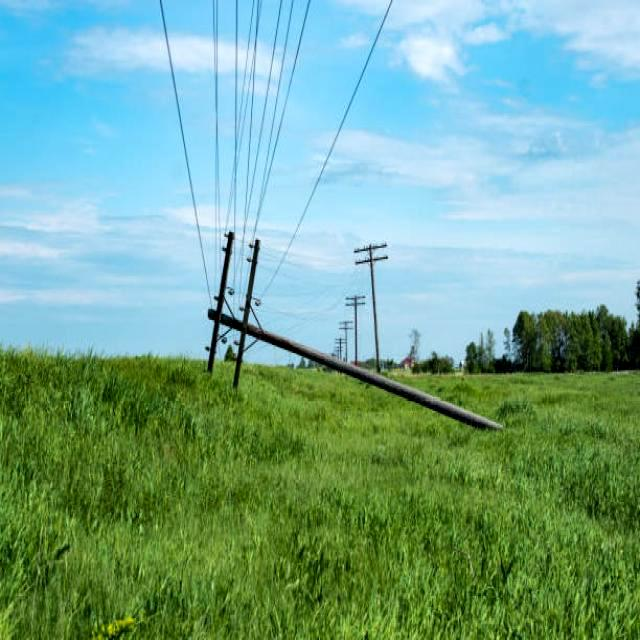Broken Pole: (194, 226, 506, 434)
